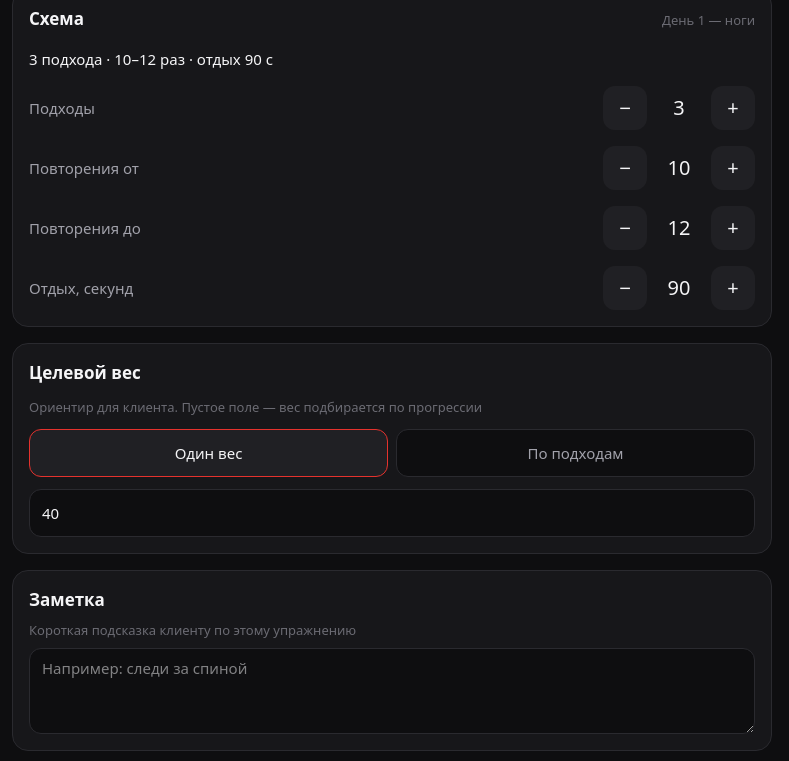
Test: пустой вес подхода не сохраняется: ошибка вместо отправки
Click the button "По подходам" at [576, 453], box [396,429,755,477]
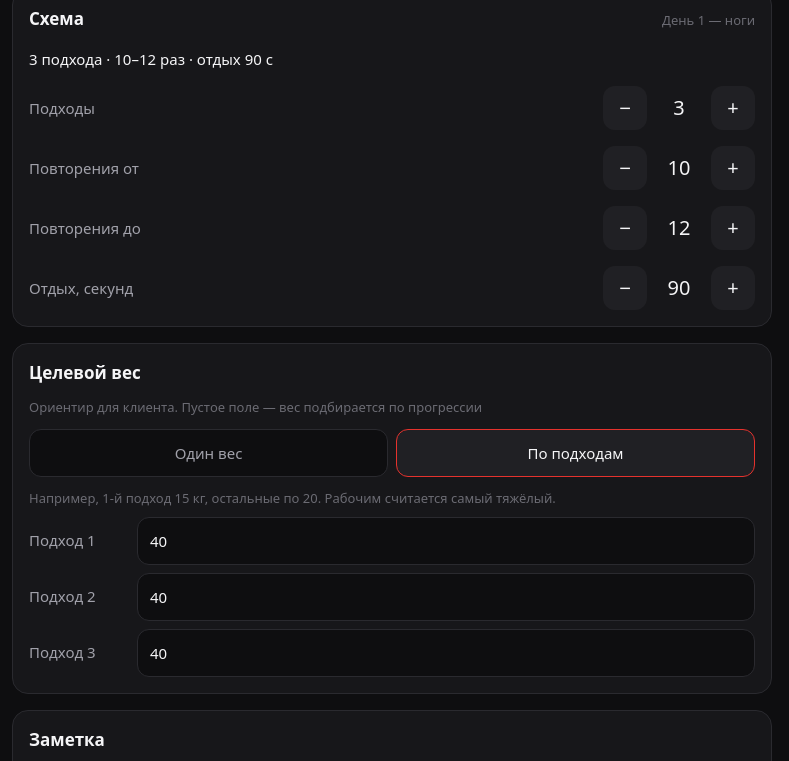
Clear the field named "Вес подхода 2" at [446, 596], box [137,572,755,620]
(page scrolled)
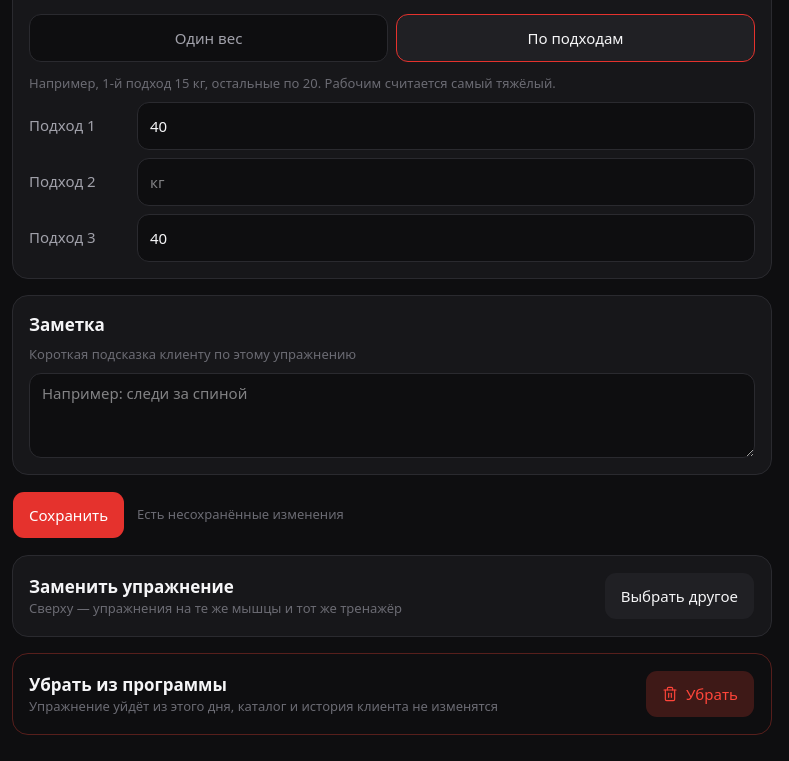
Click the button "Сохранить" at [69, 515], box [12,491,125,539]
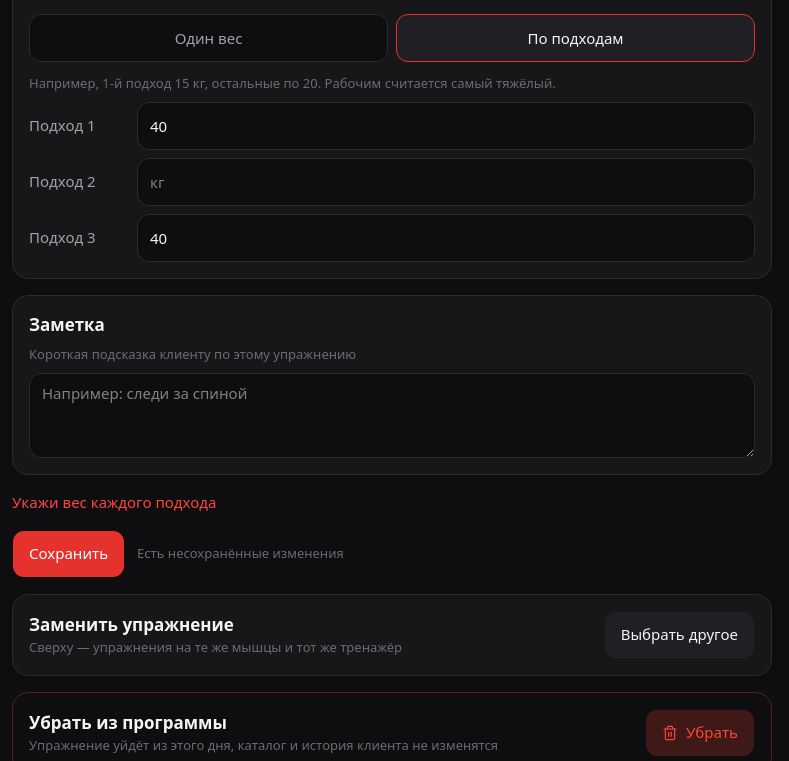
Now the message shows "вес каждого подхода", box [12,492,216,512]
